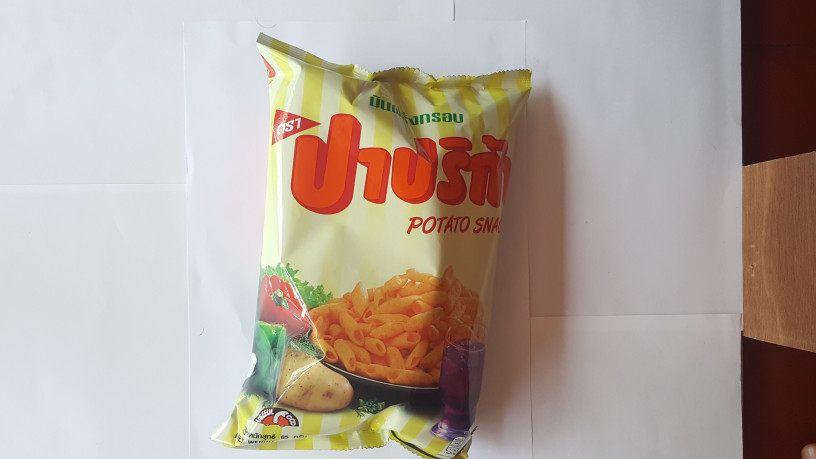paprika: (222, 22, 537, 459)
